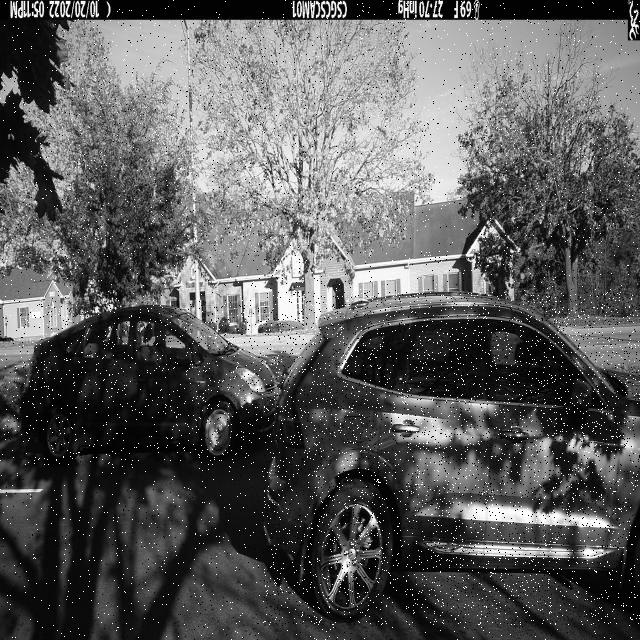Hatchback: (20, 305, 279, 465)
SUV: (263, 292, 640, 625)
